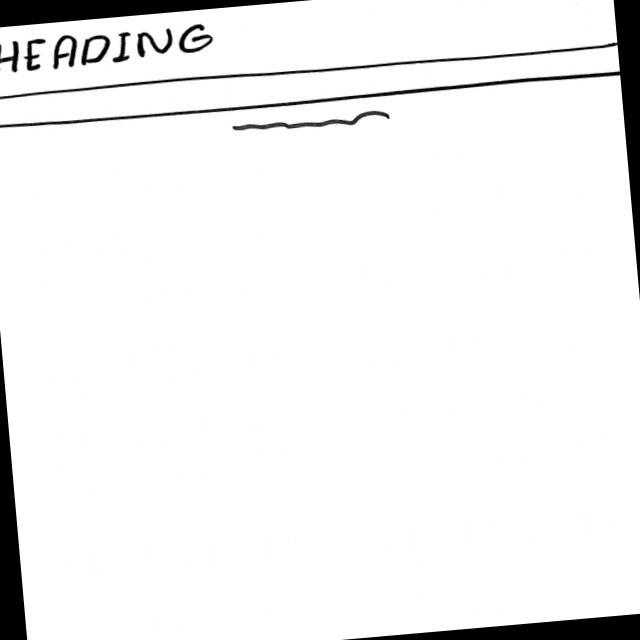container: (0, 0, 617, 102)
label: (0, 18, 218, 80)
text: (228, 108, 394, 138)
